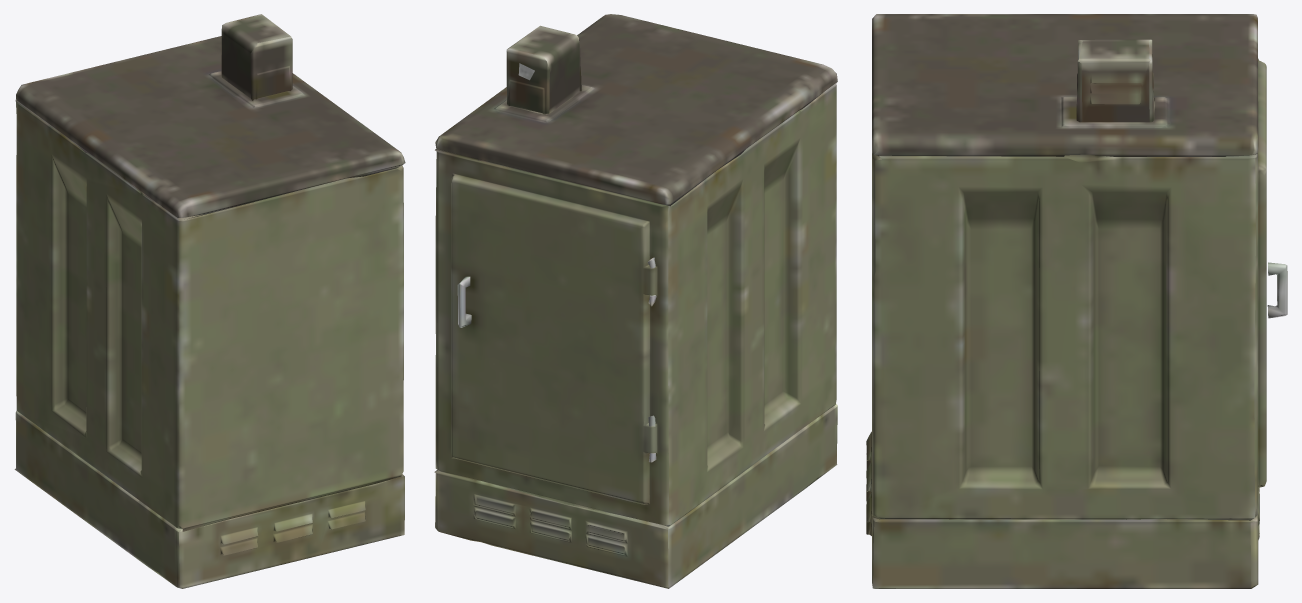
File: Refrigerator.glb
3 views of the same model, side by side, from view 1: azimuth 30°, elevation 25°; view 2: azimuth 150°, elevation 25°; view 3: azimuth 270°, elevation 25° (orthographic). The views are drawn at different scales.
Parts seen in each view (by area): view 1: Fridge; view 2: Fridge; view 3: Fridge.
Boxes of the visible parts, x1=… form: Fridge: x1=14, y1=14, x2=405, y2=588; Fridge: x1=434, y1=14, x2=837, y2=588; Fridge: x1=866, y1=14, x2=1287, y2=588.
Size of the model in its own units: 1.21 by 2.24 by 1.66.
1 material, 1 textured.
